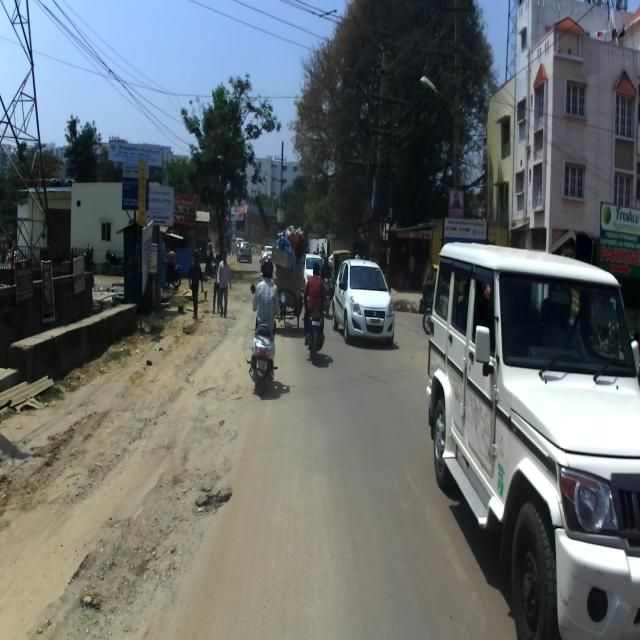car ahead at: (431, 238, 640, 639), (335, 258, 395, 342)
motorcycle ahead at: (246, 322, 284, 387)
